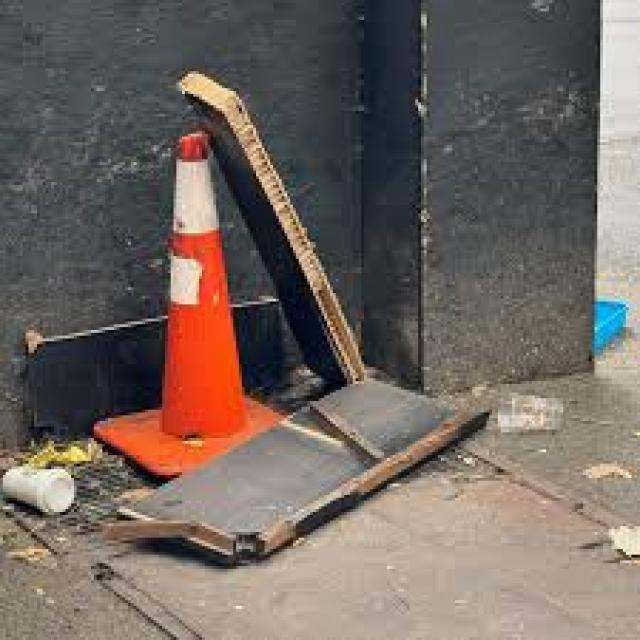Traffic Cone: (41, 79, 313, 508)
